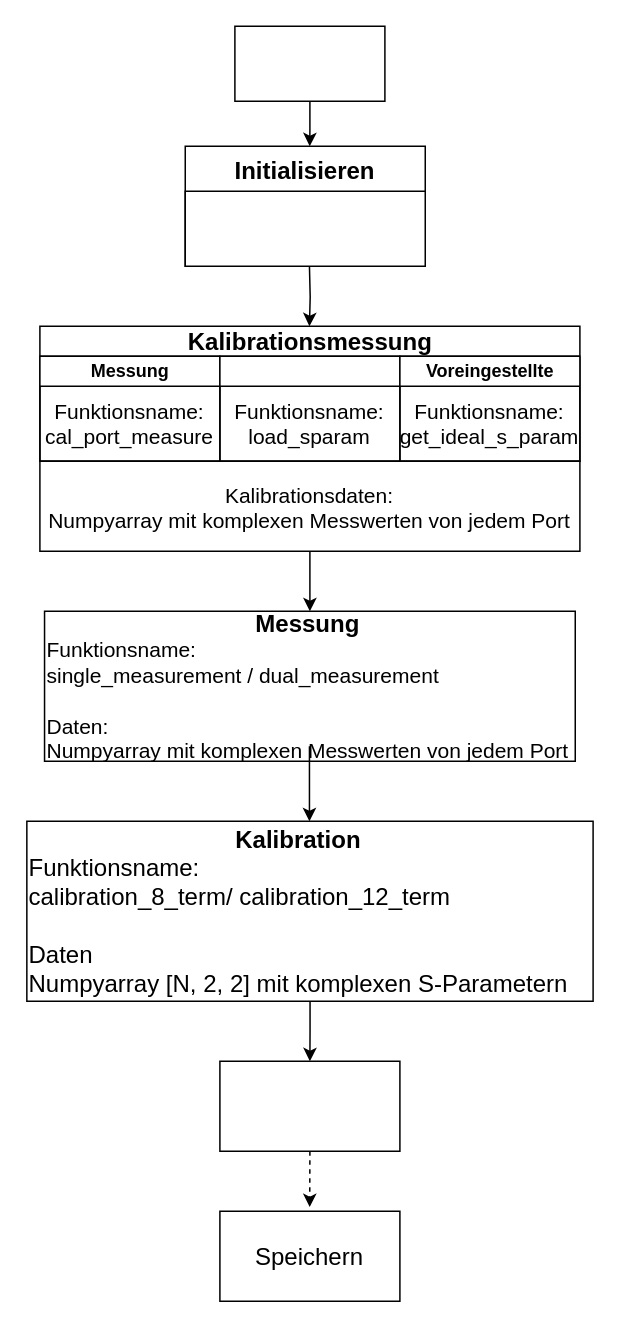
The diagram is 620 pixels wide and 1328 high, and some of its shapes have lost their labels. Each missing label, with the box of its shape:
Gespeicherte: (218, 355, 400, 461)
Plotten: (218, 1060, 400, 1151)
Start GUI: (233, 25, 385, 101)
VNAKit Objekt anlegen: (184, 190, 425, 266)
